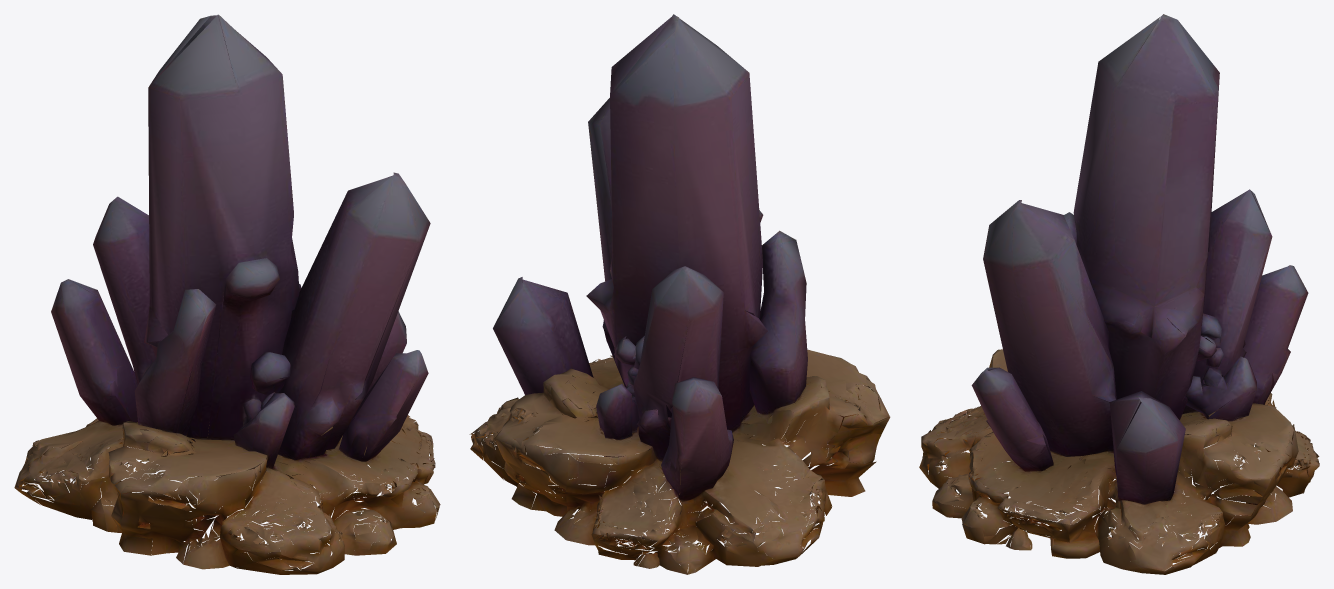
The model's file is cav_resonant_crystal_cluster_a_LOD1.glb.
The picture shows the model from 3 angles, left to right: view 1: azimuth 30°, elevation 25°; view 2: azimuth 150°, elevation 25°; view 3: azimuth 270°, elevation 25°; orthographic projection. The views are drawn at different scales.
Parts seen in each view (by area): view 1: tripo_node_47d5b845-be1a-4137-8bfe-d0635d554248; view 2: tripo_node_47d5b845-be1a-4137-8bfe-d0635d554248; view 3: tripo_node_47d5b845-be1a-4137-8bfe-d0635d554248.
Part boxes in pixels (x1,y1,x2,y2): tripo_node_47d5b845-be1a-4137-8bfe-d0635d554248: (14,14,440,574); tripo_node_47d5b845-be1a-4137-8bfe-d0635d554248: (469,14,890,574); tripo_node_47d5b845-be1a-4137-8bfe-d0635d554248: (919,14,1319,574).
Size of the model in its own units: 0.7947 by 0.9981 by 0.7598.
Materials: 1 (1 with a texture image).
